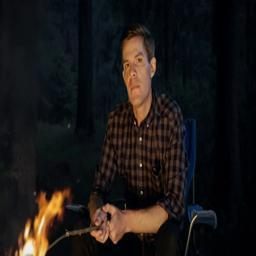fire: (14, 190, 69, 256)
